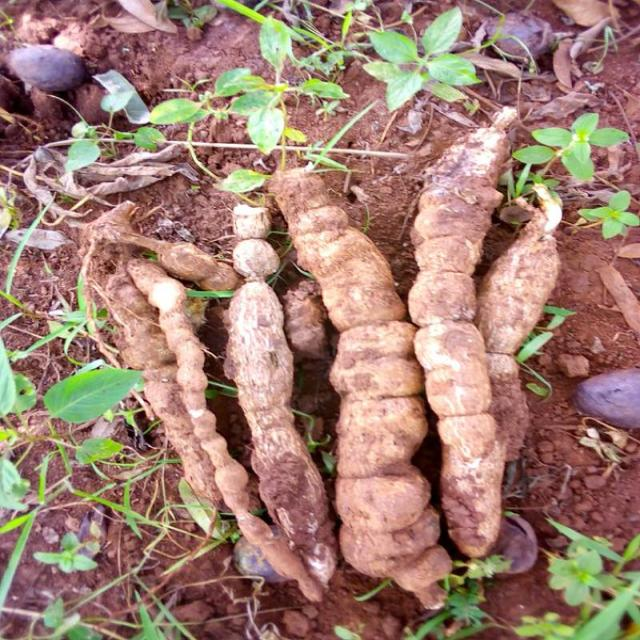cassava leaf: (44, 362, 146, 423)
